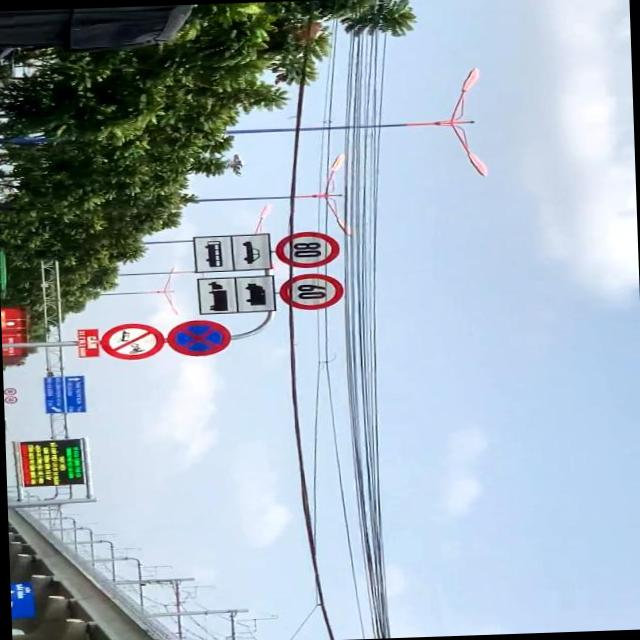P-104: (96, 321, 164, 358)
P-127: (278, 272, 346, 311), (274, 232, 340, 267)
P-130: (165, 318, 232, 356)
